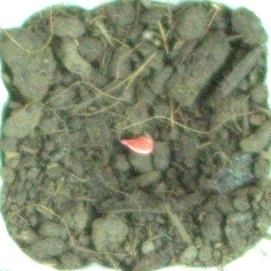pepper seed: (39, 53, 196, 210)
